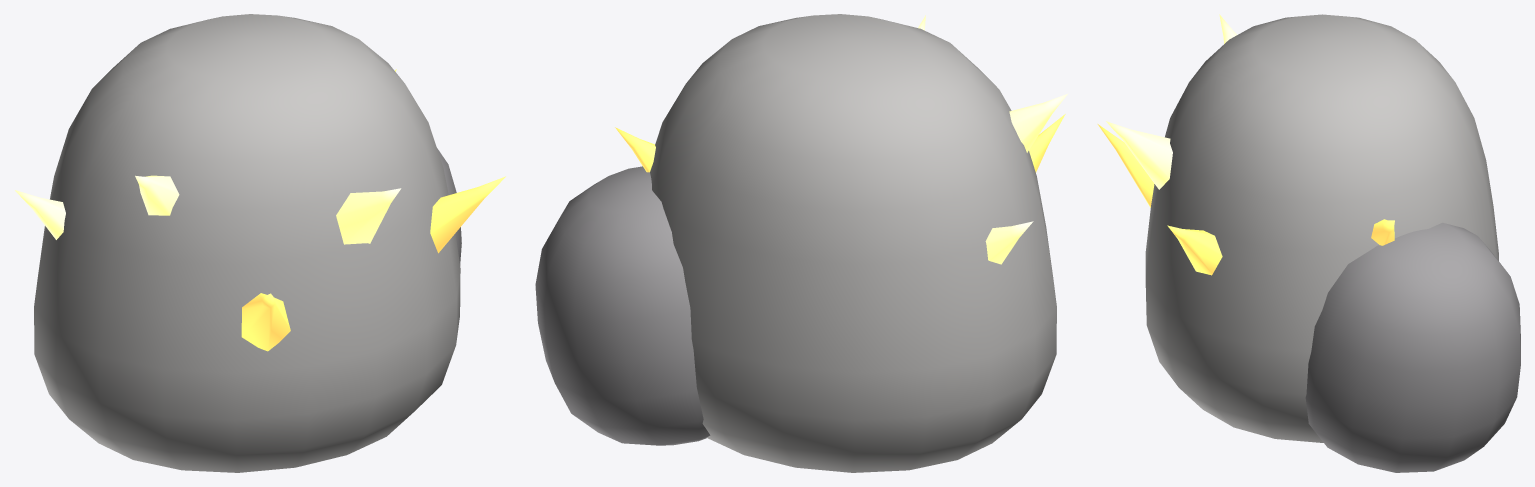
Rendered from ore_rock.glb.
3 views of the same model, side by side, from view 1: azimuth 30°, elevation 25°; view 2: azimuth 150°, elevation 25°; view 3: azimuth 270°, elevation 25° (orthographic). The views are drawn at different scales.
Parts seen in each view (by area): view 1: ore_rock; view 2: ore_rock; view 3: ore_rock.
Part boxes in pixels (x1,y1,x2,y2): ore_rock: (15,14,505,472); ore_rock: (535,14,1068,472); ore_rock: (1097,14,1520,472).
Size of the model in its own units: 1.36 by 1.12 by 1.19.
